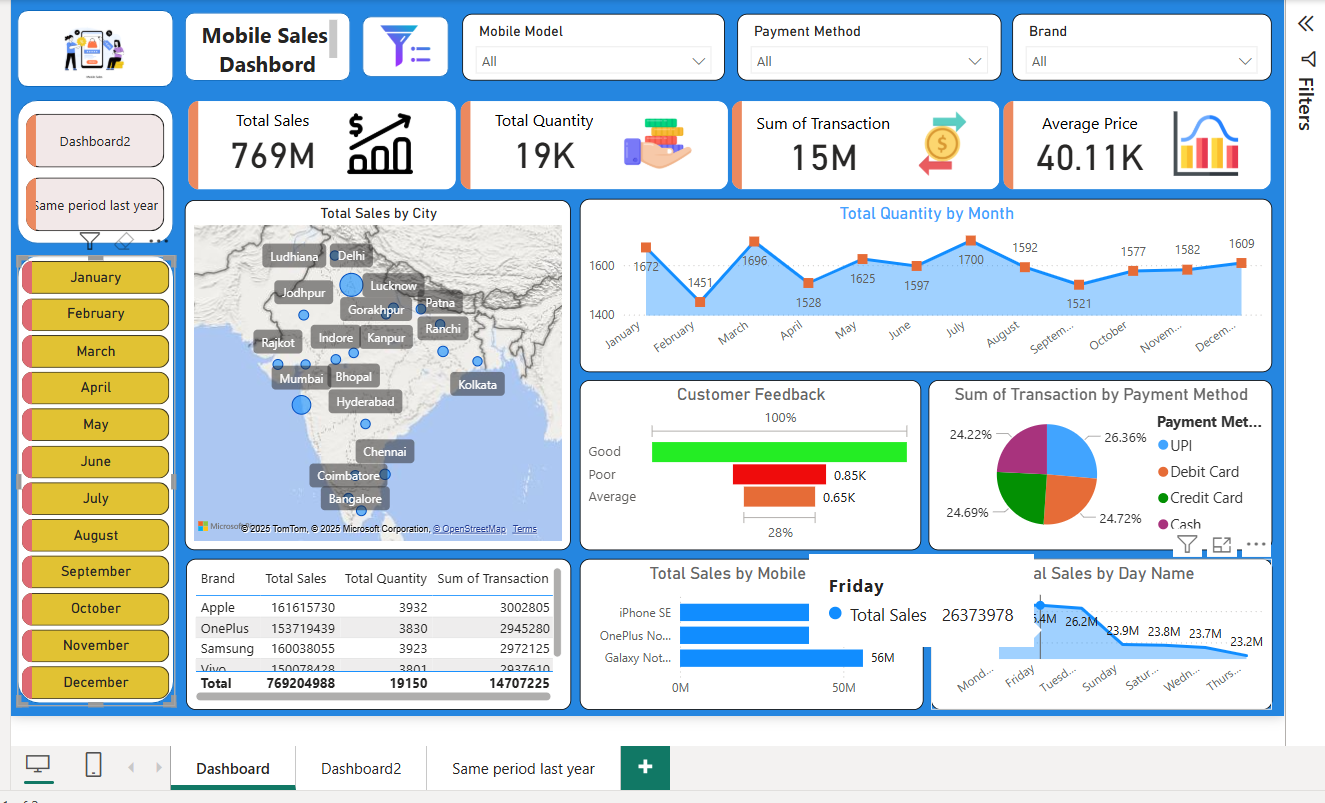

What the dashboard file says about the page in this screenshot:
{"tool":"powerbi","page":{"name":"Dashboard","canvas":[1280,720],"ordinal":0},"visuals":[{"type":"shape","box":[6.3,10.1,157,77.5],"z":0,"group":"g1"},{"type":"shape","box":[352.6,17.2,86.9,61.1],"z":0,"group":"g2"},{"type":"shape","box":[6.3,100.5,157,144.5],"z":0},{"type":"shape","box":[5.8,256.3,157.5,450.7],"z":0,"group":"g3"},{"type":"group","id":"g1","title":"Group 1","box":[6.3,10.1,157,82.9],"z":1000},{"type":"image","box":[32.7,14.2,102.6,78.8],"z":1000,"group":"g1"},{"type":"image","box":[354,16.9,84.1,60.4],"z":1000,"group":"g2"},{"type":"advancedSlicerVisual","fields":{"Values":["Custom_Date.Date.Variation.Date Hierarchy.Month"]},"box":[5.8,257.6,158.3,452.3],"z":1000,"group":"g3"},{"type":"cardVisual","fields":{"Data":["Mobile_Sales_Data.Total Sales","Mobile_Sales_Data.Total Quantity","Sum(Mobile_Sales_Data.Transition)","Mobile_Sales_Data.Average Price"]},"box":[173.4,96.7,1100.6,99.3],"z":2000},{"type":"slicer","fields":{"Values":["Mobile_Sales_Data.Payment Method"]},"box":[729.9,13.3,265.4,67.6],"z":3000},{"type":"slicer","fields":{"Values":["Mobile_Sales_Data.Mobile Model"]},"box":[453.6,13.3,264.2,67.6],"z":4000},{"type":"slicer","fields":{"Values":["Mobile_Sales_Data.Brand"]},"box":[1006.2,13.3,260.6,67.6],"z":5000},{"type":"group","id":"g2","title":"Group 2","box":[352.6,16.9,85.7,60.3],"z":6000},{"type":"group","id":"g3","title":"Group 3","box":[5.8,256.3,158.3,453.6],"z":7000},{"type":"shape","box":[174.9,12.1,166.5,68.8],"z":8000},{"type":"textbox","box":[184.6,14.5,148.4,63.9],"z":9000},{"type":"map","fields":{"Category":["Mobile_Sales_Data.City"],"Size":["Mobile_Sales_Data.Total Sales"]},"box":[174.1,200.8,388.3,351.8],"z":10000},{"type":"lineChart","fields":{"Category":["Custom_Date.Date.Variation.Date Hierarchy.Month"],"Y":["Mobile_Sales_Data.Total Quantity"]},"box":[571.7,199.8,696,174.6],"z":11000},{"type":"funnel","title":"Customer Feedback","fields":{"Y":["CountNonNull(Mobile_Sales_Data.Customer Ratings)"],"Category":["Mobile_Sales_Data.Rating Status"]},"box":[571.7,381.9,343,170.9],"z":12000},{"type":"pieChart","fields":{"Category":["Mobile_Sales_Data.Payment Method"],"Y":["Sum(Mobile_Sales_Data.Transaction)"]},"box":[922.2,381.9,345.5,170.9],"z":13000},{"type":"clusteredBarChart","fields":{"Y":["Mobile_Sales_Data.Total Sales"],"Category":["Mobile_Sales_Data.Mobile Model"]},"box":[571.7,561.6,345.5,152],"z":14000},{"type":"areaChart","fields":{"Y":["Mobile_Sales_Data.Total Sales"],"Category":["Custom_Date.Day Name"]},"box":[924.7,561.6,343,152],"z":15000},{"type":"tableEx","fields":{"Values":["Mobile_Sales_Data.Brand","Mobile_Sales_Data.Total Sales","Mobile_Sales_Data.Total Quantity","Sum(Mobile_Sales_Data.Transaction)"]},"box":[175.3,561.1,387.1,152.2],"z":16000},{"type":"pageNavigator","box":[15.1,114.3,139.5,119.4],"z":16001}]}

Visuals, with their boxes in screenshot pixels (x1, y1, x2, y2):
shape: (left=13, top=10, right=168, bottom=86)
shape: (left=354, top=17, right=440, bottom=77)
shape: (left=13, top=99, right=168, bottom=241)
shape: (left=13, top=252, right=168, bottom=696)
"Group 1" group: (left=13, top=10, right=168, bottom=92)
image: (left=39, top=14, right=140, bottom=92)
image: (left=355, top=17, right=438, bottom=76)
advancedSlicerVisual - Custom_Date.Date.Variation.Date Hierarchy.Month: (left=13, top=254, right=168, bottom=699)
cardVisual - Mobile_Sales_Data.Total Sales x Mobile_Sales_Data.Total Quantity: (left=178, top=95, right=1261, bottom=193)
slicer - Mobile_Sales_Data.Payment Method: (left=726, top=13, right=987, bottom=80)
slicer - Mobile_Sales_Data.Mobile Model: (left=454, top=13, right=714, bottom=80)
slicer - Mobile_Sales_Data.Brand: (left=998, top=13, right=1254, bottom=80)
"Group 2" group: (left=354, top=17, right=438, bottom=76)
"Group 3" group: (left=13, top=252, right=168, bottom=699)
shape: (left=179, top=12, right=343, bottom=80)
textbox: (left=189, top=14, right=335, bottom=77)
map - Mobile_Sales_Data.City x Mobile_Sales_Data.Total Sales: (left=178, top=198, right=561, bottom=544)
lineChart - Custom_Date.Date.Variation.Date Hierarchy.Month x Mobile_Sales_Data.Total Quantity: (left=570, top=197, right=1255, bottom=369)
"Customer Feedback" funnel: (left=570, top=376, right=908, bottom=544)
pieChart - Mobile_Sales_Data.Payment Method x Sum(Mobile_Sales_Data.Transaction): (left=915, top=376, right=1255, bottom=544)
clusteredBarChart - Mobile_Sales_Data.Total Sales x Mobile_Sales_Data.Mobile Model: (left=570, top=553, right=910, bottom=703)
areaChart - Mobile_Sales_Data.Total Sales x Custom_Date.Day Name: (left=917, top=553, right=1255, bottom=703)
tableEx - Mobile_Sales_Data.Brand x Mobile_Sales_Data.Total Sales: (left=180, top=552, right=561, bottom=702)
pageNavigator: (left=22, top=113, right=159, bottom=230)
